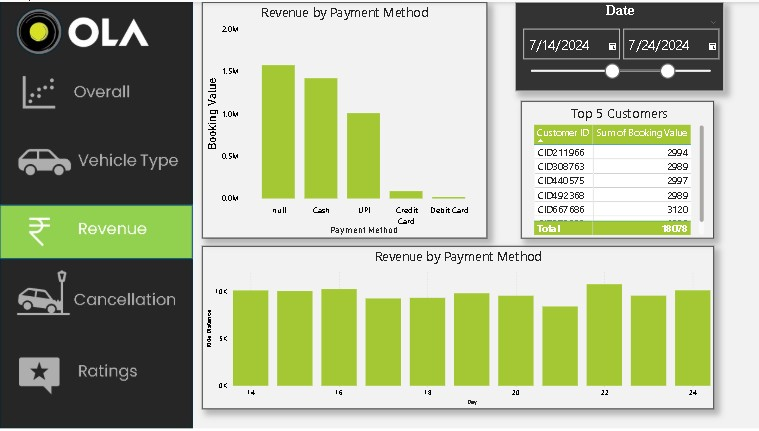

The page's visual inventory and layout, read from the dashboard file:
{"tool":"powerbi","page":{"name":"Revenue","canvas":[1280,720],"ordinal":2},"visuals":[{"type":"actionButton","box":[0,341.3,322.6,89.3],"z":0},{"type":"actionButton","box":[0,457.9,322.6,89.3],"z":1000},{"type":"actionButton","box":[0,580.3,322.6,89.3],"z":2000},{"type":"actionButton","box":[0,221.8,322.6,92.2],"z":3000},{"type":"actionButton","box":[0,103.7,322.6,92.2],"z":4000},{"type":"columnChart","title":"Revenue by Payment Method","fields":{"Category":["bookings.Payment_Method"],"Y":["Sum(bookings.Booking_Value)"]},"box":[340,0,478.6,397.1],"z":5000},{"type":"columnChart","title":"Revenue by Payment Method","fields":{"Y":["Sum(bookings.Ride_Distance)"],"Category":["bookings.Date.Variation.Date Hierarchy.Day"]},"box":[339.3,409.9,860.1,273.8],"z":6000},{"type":"slicer","title":"Date","fields":{"Values":["bookings.Date"]},"box":[865.7,0,351.4,150],"z":7000},{"type":"tableEx","title":"Top 5 Customers","fields":{"Values":["bookings.Customer_ID","Sum(bookings.Booking_Value)"]},"box":[875.7,165.7,324.3,231.4],"z":8000}]}

Visuals, with their boxes in screenshot pixels (x1, y1, x2, y2), scaled from the page's 1280x720 canvas onto the 759x431 screenshot:
actionButton: rect(0, 204, 191, 258)
actionButton: rect(0, 274, 191, 328)
actionButton: rect(0, 347, 191, 401)
actionButton: rect(0, 133, 191, 188)
actionButton: rect(0, 62, 191, 117)
"Revenue by Payment Method" columnChart: rect(202, 0, 485, 238)
"Revenue by Payment Method" columnChart: rect(201, 245, 711, 409)
"Date" slicer: rect(513, 0, 722, 90)
"Top 5 Customers" tableEx: rect(519, 99, 712, 238)
